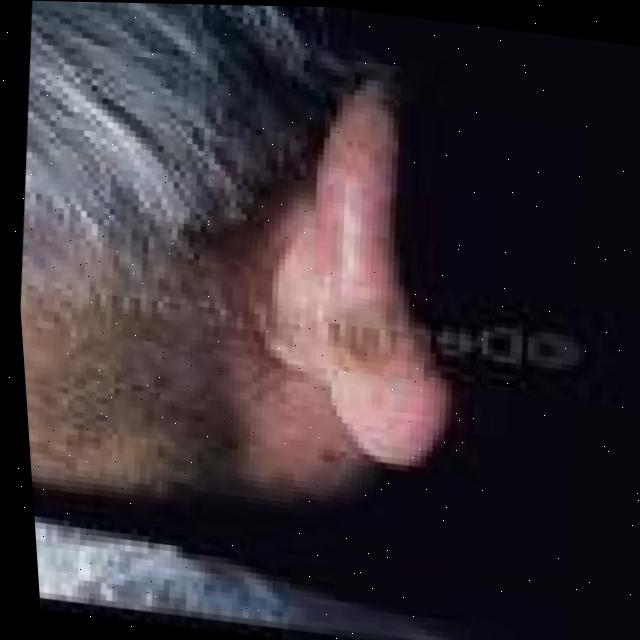Melasma: (20, 299, 237, 510), (295, 308, 399, 383)
